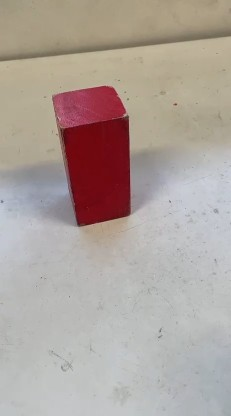red: (47, 82, 131, 216)
